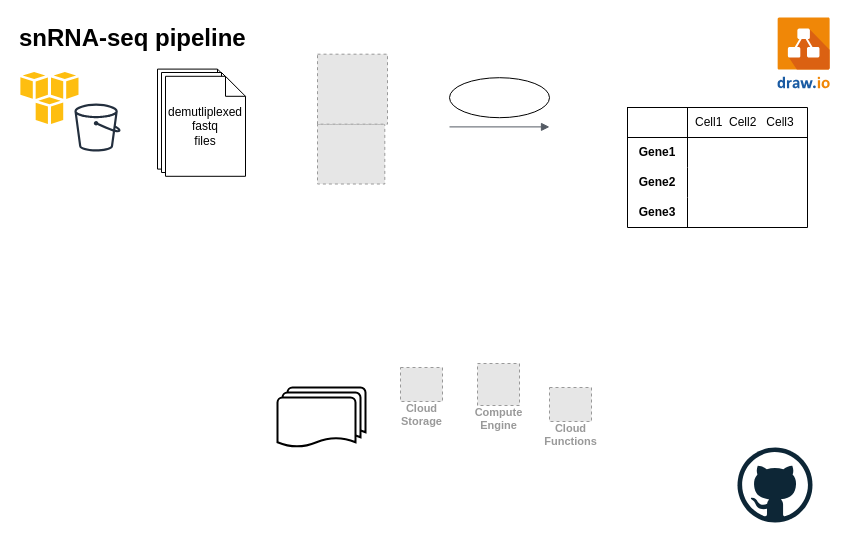
Some shapes in this 848 by 540 pixel diagram are drawn without their labels. Grey dashed boxes stand in for pictures. The centre of each missing label's shape, as x and y in pixels:
"Bucket" goes at [97,127].
"fastqc()" goes at [499,97].
